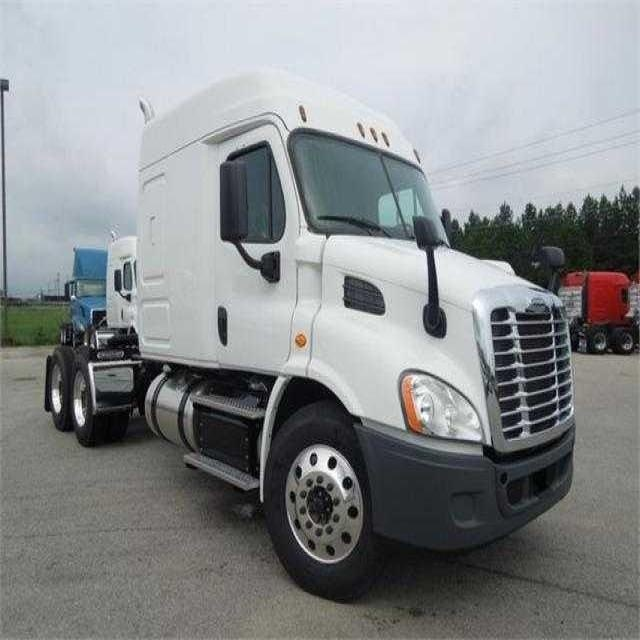Truck: (41, 58, 582, 609)
